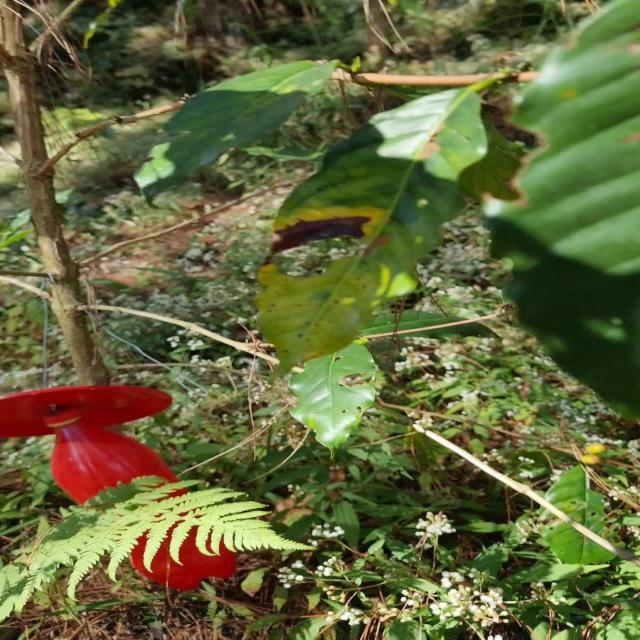leaves: (199, 49, 548, 387), (114, 30, 350, 201)
